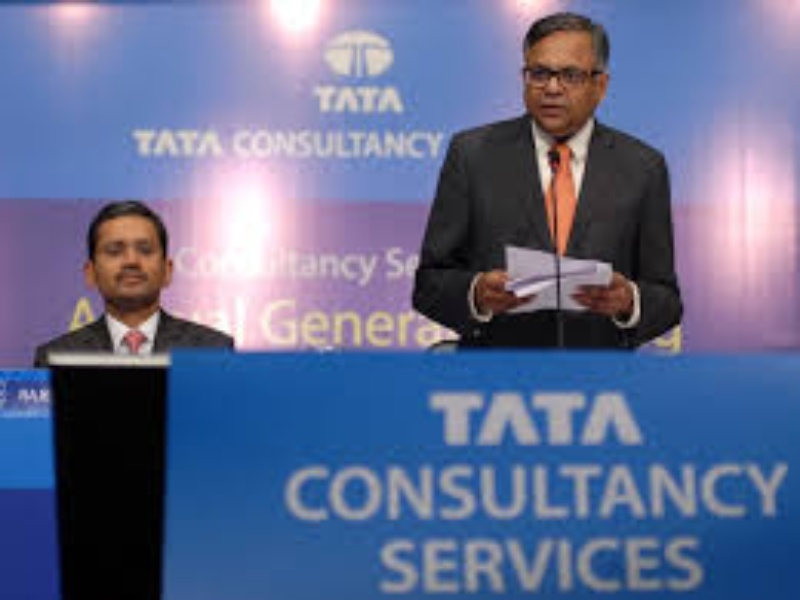tcs: (323, 32, 402, 85)
